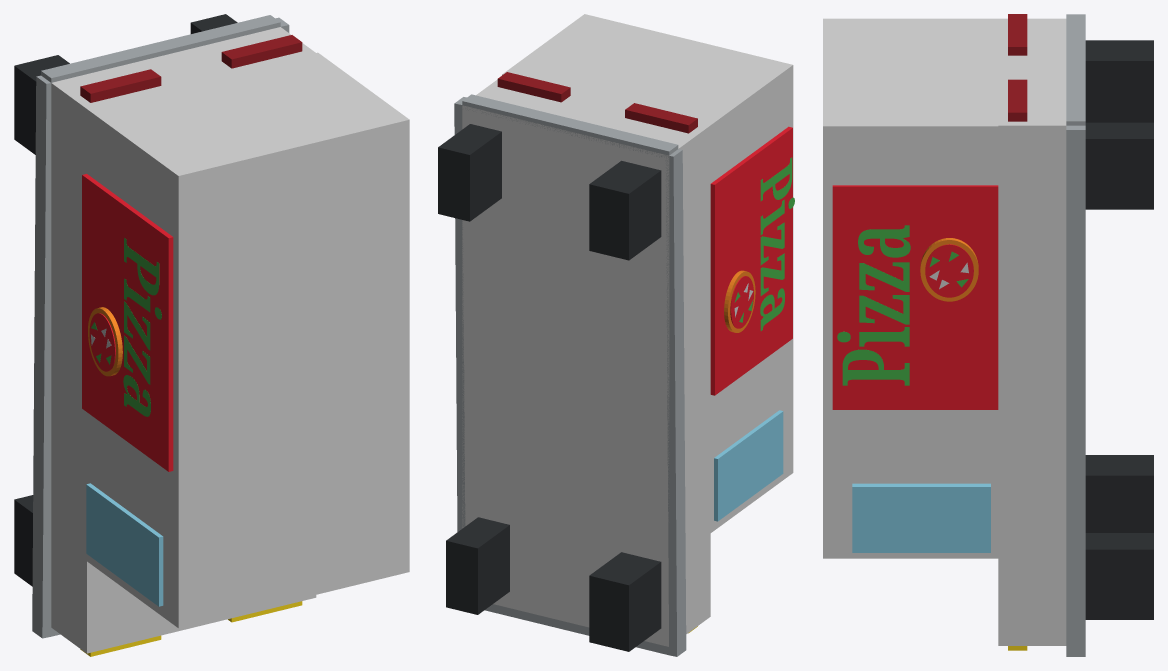
File: tinker.obj
The picture shows the model from 3 angles, left to right: view 1: azimuth 30°, elevation 25°; view 2: azimuth 150°, elevation 25°; view 3: azimuth 270°, elevation 25°; orthographic projection. The views are drawn at different scales.
Parts seen in each view (by area): view 1: obj_5, obj_0, obj_35, obj_13, obj_17, obj_12, obj_36, obj_4, obj_1, obj_10, obj_9, obj_33 (+1 smaller); view 2: obj_0, obj_5, obj_35, obj_13, obj_1, obj_4, obj_3, obj_2, obj_17, obj_12, obj_14, obj_36 (+5 smaller); view 3: obj_5, obj_0, obj_15, obj_14, obj_16, obj_3, obj_2, obj_4, obj_1, obj_18, obj_12, obj_20 (+3 smaller).
Boxes of the visible parts, left/top/right/bottom form: obj_5: left=87, top=52, right=409, bottom=628; obj_0: left=51, top=27, right=316, bottom=653; obj_35: left=82, top=174, right=173, bottom=471; obj_13: left=32, top=75, right=51, bottom=638; obj_17: left=86, top=483, right=163, bottom=606; obj_12: left=41, top=15, right=280, bottom=82; obj_36: left=123, top=238, right=161, bottom=416; obj_4: left=14, top=55, right=69, bottom=154; obj_1: left=14, top=495, right=33, bottom=586; obj_10: left=80, top=69, right=161, bottom=102; obj_9: left=221, top=35, right=302, bottom=68; obj_33: left=89, top=313, right=115, bottom=371; obj_0: left=462, top=79, right=710, bottom=646; obj_5: left=502, top=14, right=793, bottom=532; obj_35: left=710, top=126, right=792, bottom=395; obj_13: left=665, top=149, right=686, bottom=656; obj_1: left=589, top=552, right=661, bottom=651; obj_4: left=589, top=160, right=661, bottom=260; obj_3: left=438, top=124, right=501, bottom=221; obj_2: left=446, top=517, right=509, bottom=614; obj_17: left=714, top=410, right=783, bottom=521; obj_12: left=462, top=94, right=678, bottom=159; obj_14: left=454, top=97, right=466, bottom=531; obj_36: left=760, top=157, right=794, bottom=330; obj_5: left=823, top=18, right=998, bottom=558; obj_0: left=998, top=18, right=1066, bottom=645; obj_15: left=832, top=185, right=998, bottom=409; obj_14: left=1066, top=125, right=1085, bottom=656; obj_16: left=852, top=483, right=990, bottom=552; obj_3: left=1085, top=122, right=1153, bottom=209; obj_2: left=1085, top=533, right=1153, bottom=619; obj_4: left=1085, top=40, right=1153, bottom=122; obj_1: left=1085, top=455, right=1153, bottom=532; obj_18: left=837, top=225, right=910, bottom=385; obj_12: left=1066, top=14, right=1085, bottom=125; obj_20: left=925, top=244, right=973, bottom=297.
Bounding box in the file's own units: 28.54 × 61 × 34.
